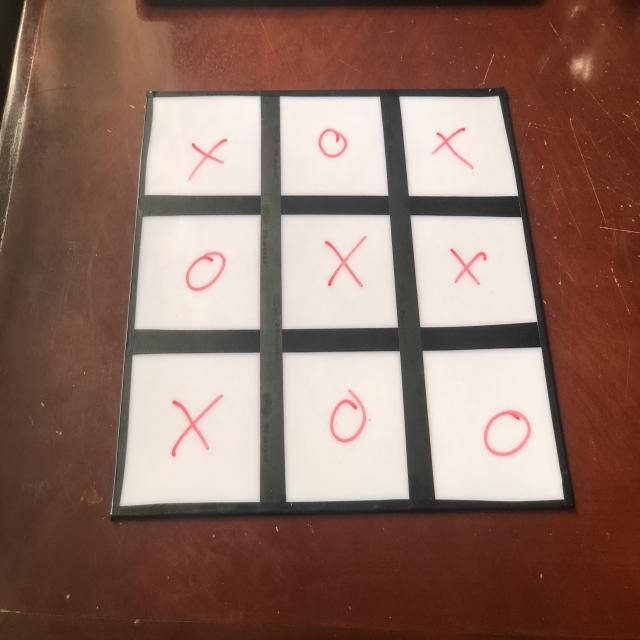o: (314, 388, 376, 454), (480, 403, 535, 464), (181, 243, 237, 300), (315, 123, 350, 164)
table: (101, 85, 577, 520)
x: (163, 389, 231, 468), (321, 230, 371, 299), (184, 130, 235, 186), (442, 240, 492, 294), (431, 122, 474, 176)
